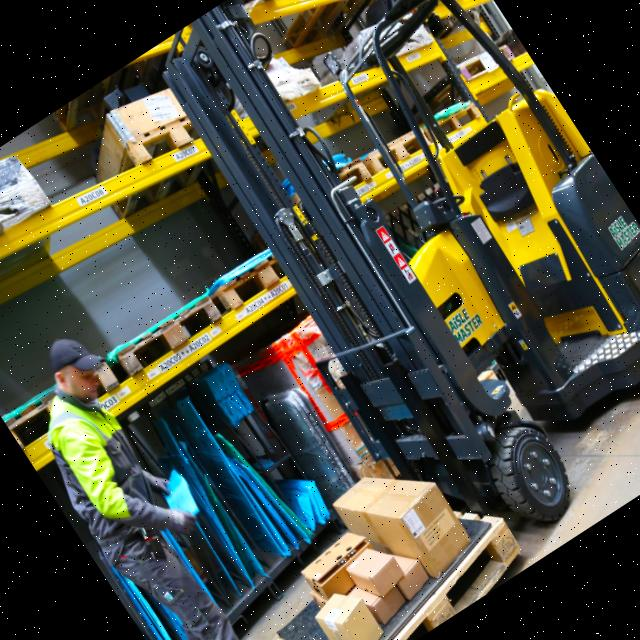Person: (0, 323, 324, 640)
